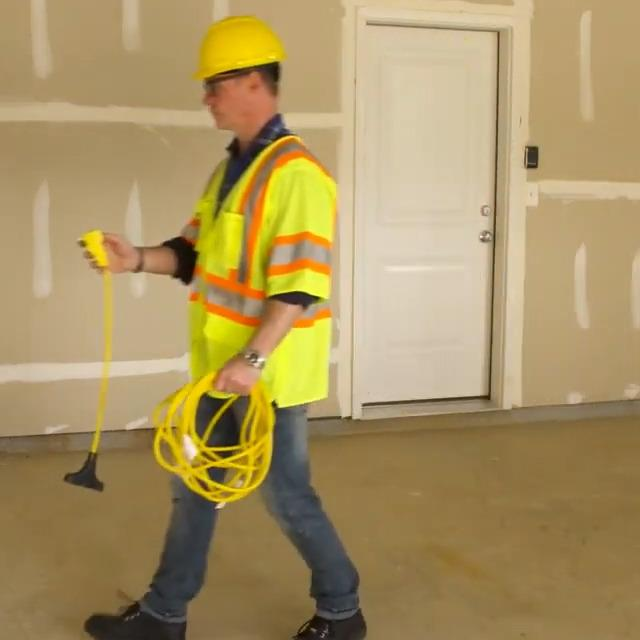Hardhat: (195, 16, 286, 82)
NO-Mask: (213, 87, 255, 130)
Person: (74, 14, 367, 640)
Safety Vest: (183, 136, 341, 343)
